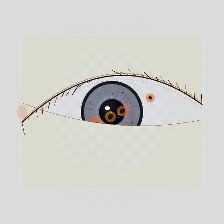foreign_body_visible: (82, 113, 110, 135)
